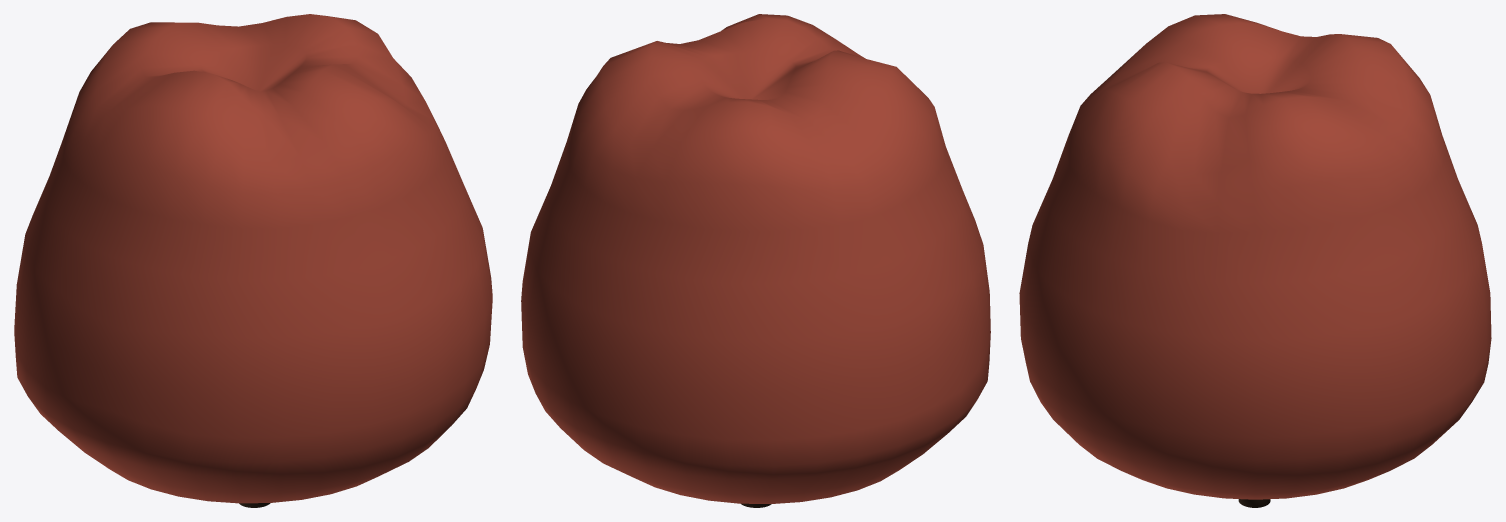
Rendered from Pomme.fbx.
The picture shows the model from 3 angles, left to right: view 1: azimuth 30°, elevation 25°; view 2: azimuth 150°, elevation 25°; view 3: azimuth 270°, elevation 25°; orthographic projection.
Parts seen in each view (by area): view 1: Pomme; view 2: Pomme; view 3: Pomme.
Part boxes in pixels (left/top/right/bottom): Pomme: left=14, top=14, right=492, bottom=503; Pomme: left=521, top=14, right=990, bottom=503; Pomme: left=1019, top=14, right=1491, bottom=499.
Bounding box in the file's own units: 9.44 × 9.85 × 9.42.
